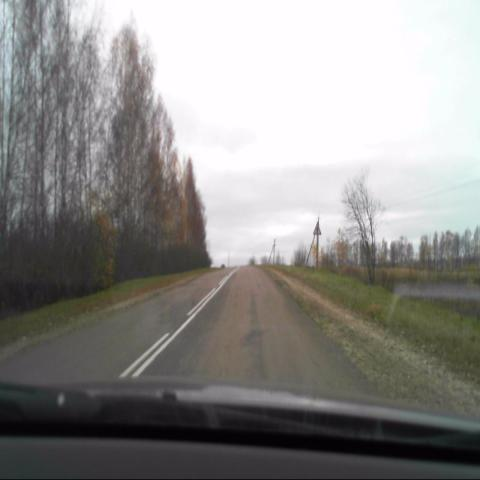2_3_3: (313, 220, 321, 234)
